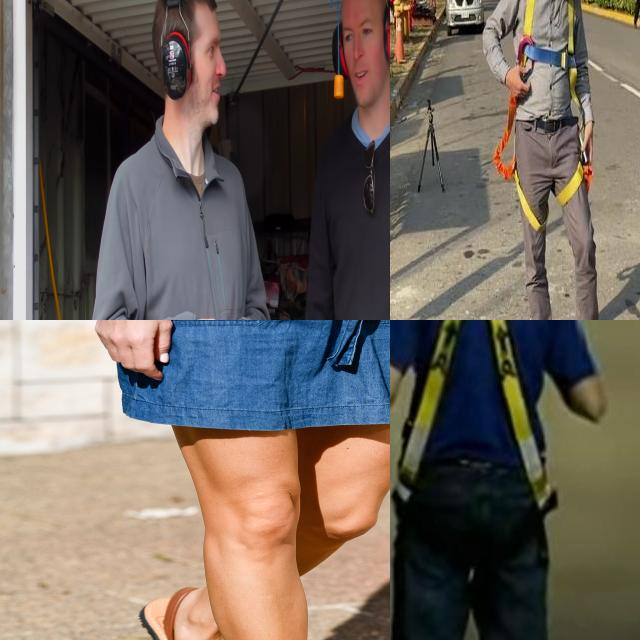Ear-protection: (153, 0, 227, 145), (331, 0, 390, 121)
Harness: (390, 320, 561, 531), (494, 98, 590, 234), (518, 0, 579, 104)
No_Glasses: (340, 8, 379, 57), (200, 24, 222, 68)
Sandals: (135, 584, 251, 640)
